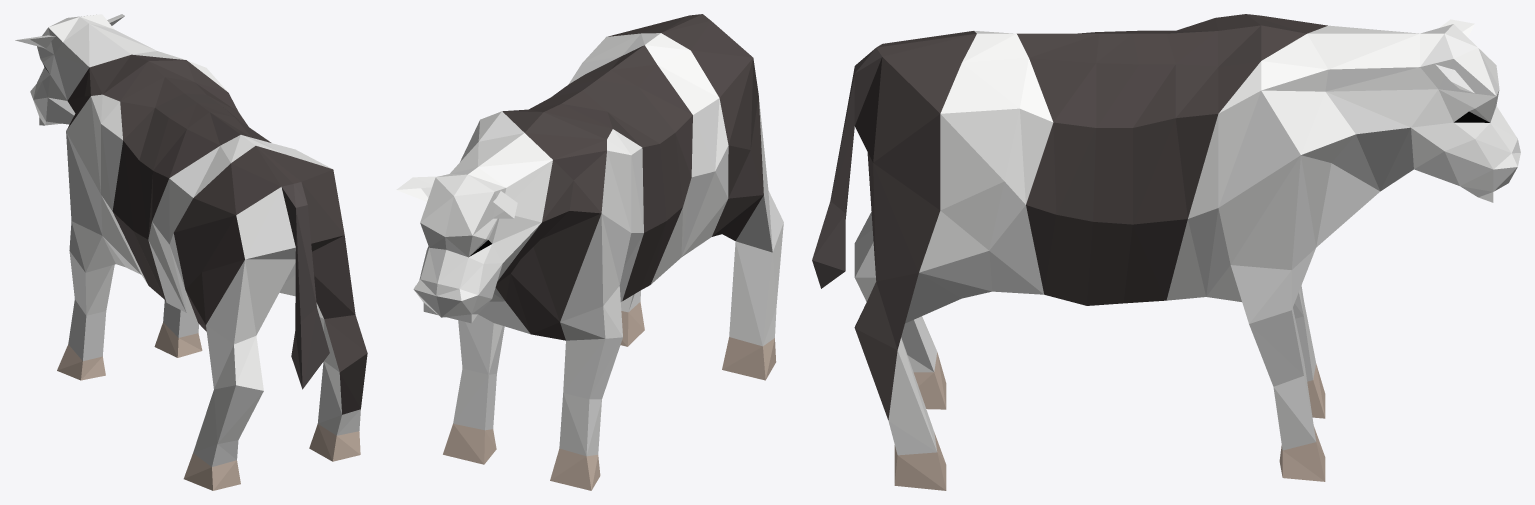
The model's file is npc_world_cow_3_0.obj.
3 renders of one model, left to right at view 1: azimuth 30°, elevation 25°; view 2: azimuth 150°, elevation 25°; view 3: azimuth 270°, elevation 25°, orthographic. The views are drawn at different scales.
Bounding box in the file's own units: 0.6484 × 1.16 × 1.81.
